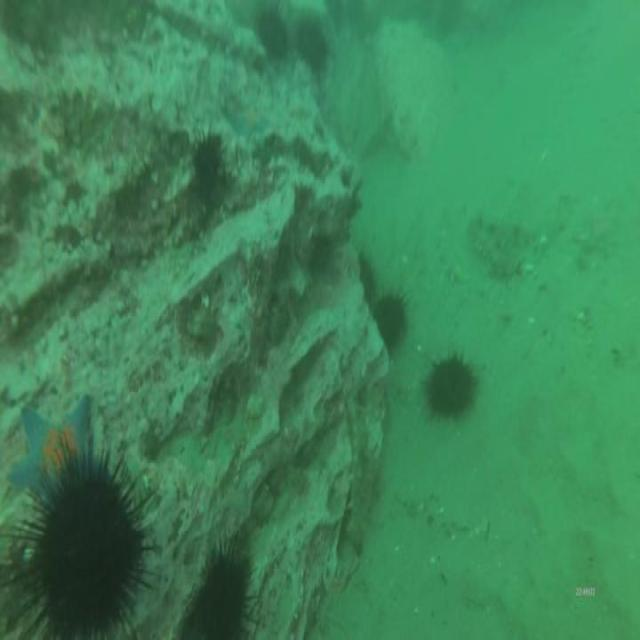echinus: (0, 437, 155, 640), (187, 540, 255, 640), (418, 346, 482, 427), (188, 123, 228, 198), (292, 9, 330, 79), (370, 288, 410, 354), (254, 0, 292, 68), (354, 247, 381, 310)
holothurian: (471, 202, 540, 252), (474, 221, 524, 283)
starfish: (7, 390, 102, 514)
